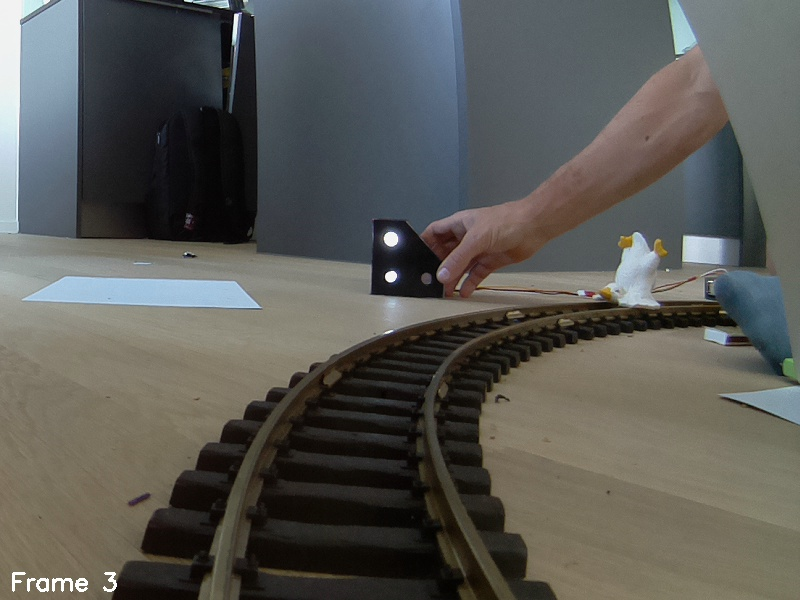Ente: (595, 229, 669, 318)
Fahrt: (373, 221, 443, 304)
